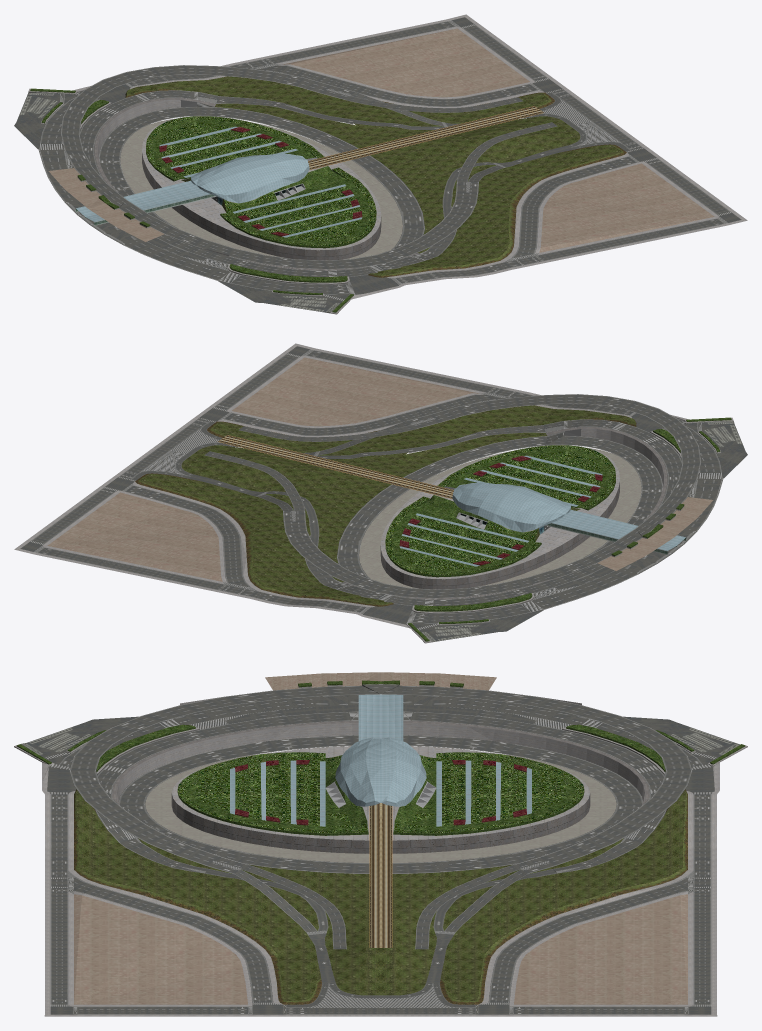
File: frontGround.obj
3 views of the same model, one above another, from view 1: azimuth 30°, elevation 25°; view 2: azimuth 150°, elevation 25°; view 3: azimuth 270°, elevation 25° (orthographic). The views are drawn at different scales.
Visible parts, largest first — view 1: Object019; view 2: Object019; view 3: Object019.
Part boxes in pixels (box(x1,y1,x2,y2)): Object019: box(14, 14, 747, 314); Object019: box(14, 343, 747, 643); Object019: box(14, 672, 747, 1016).
Bounding box in the file's own units: 421 × 33.58 × 429.
